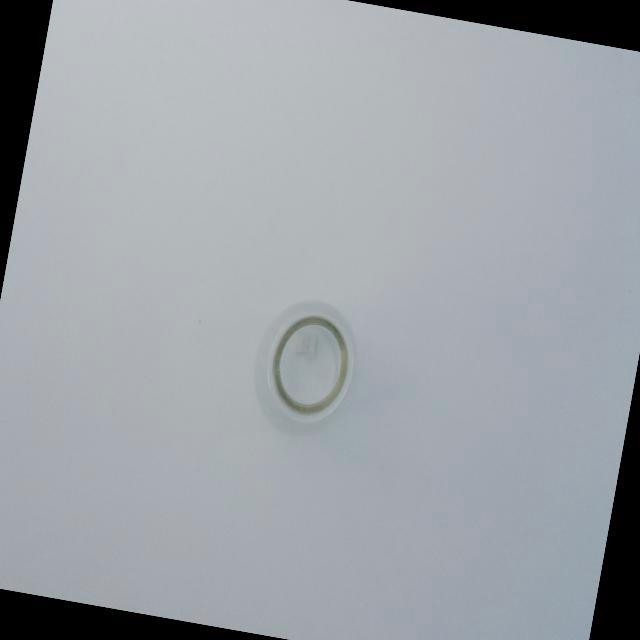glass: (206, 271, 379, 464)
